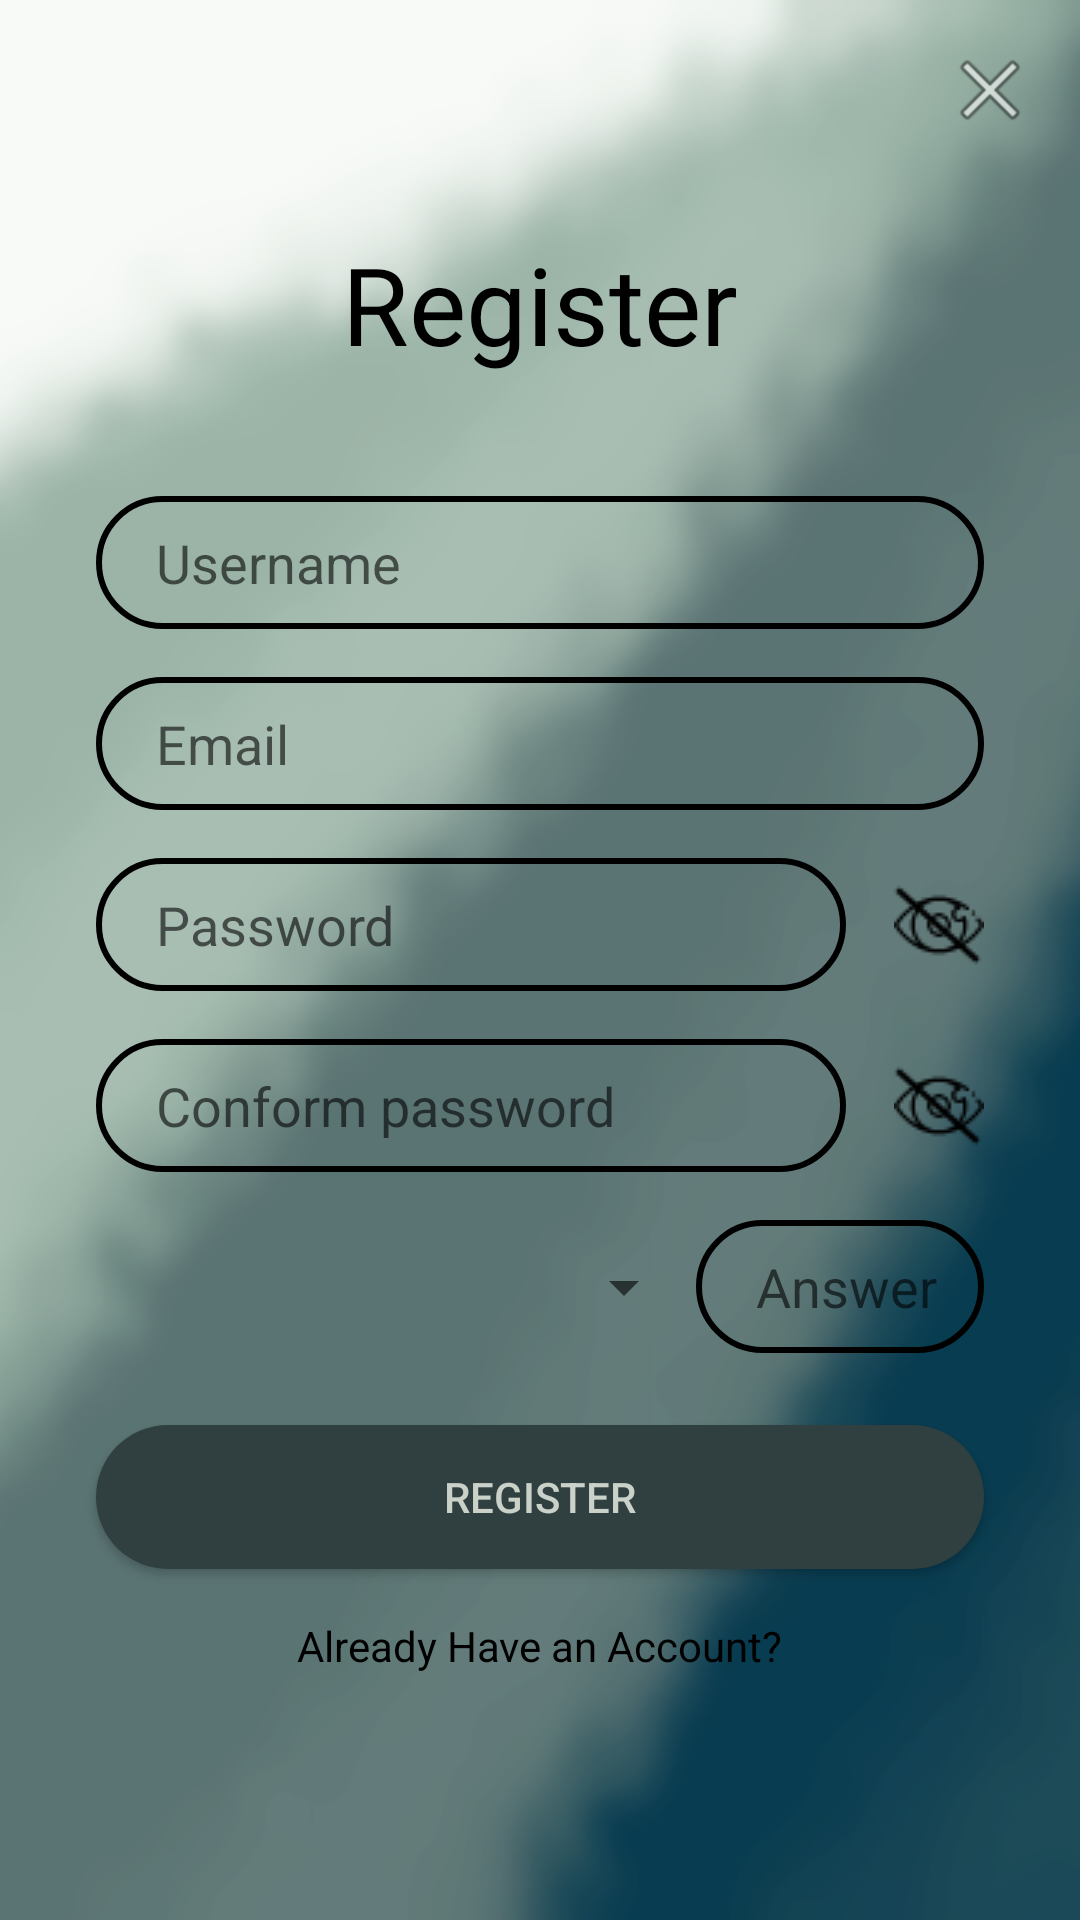

Screen size 1080*1920. Icon name, then its center in pixels as (x,y):
no eye: (939,925), (939,1106)
